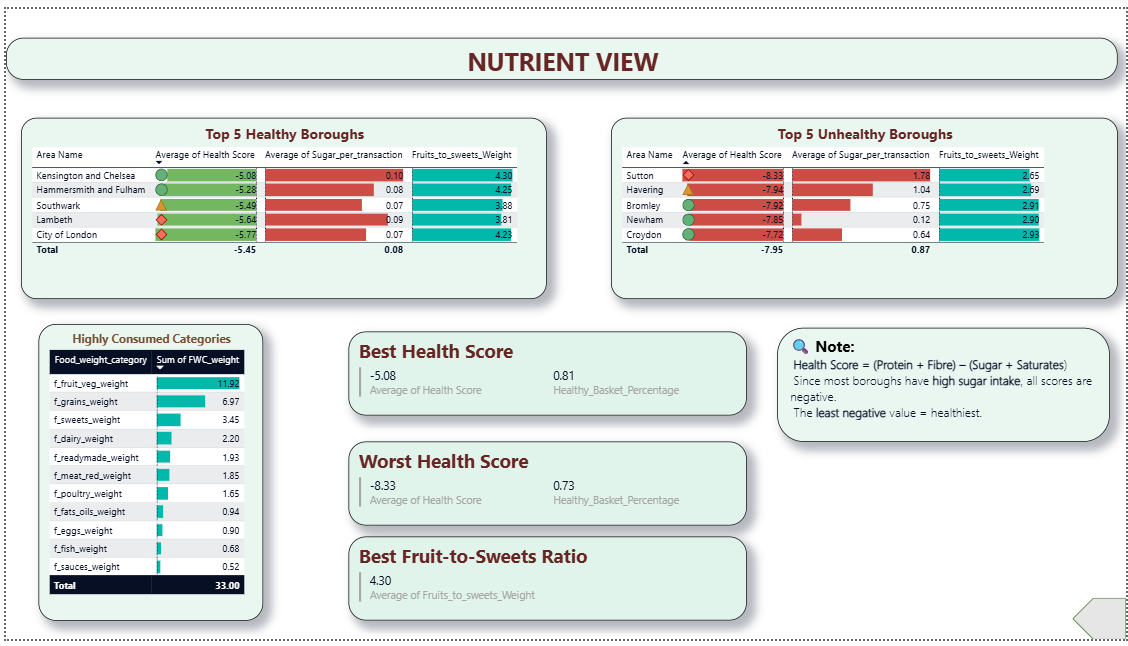

What the dashboard file says about the page in this screenshot:
{"tool":"powerbi","page":{"name":"NUTRIENTS VIEW","canvas":[1280,720],"ordinal":3},"visuals":[{"type":"tableEx","title":"Top 5 Healthy Boroughs","fields":{"Values":["year_borough_grocery.Area Name","Avg(year_borough_grocery.Health Score )","Avg(year_borough_grocery.Sugar_per_transaction)","year_borough_grocery.Fruits_to_sweets_Weight"]},"box":[17.8,124.9,601,207.2],"z":0},{"type":"tableEx","title":"Top 5 Unhealthy Boroughs","fields":{"Values":["year_borough_grocery.Area Name","Avg(year_borough_grocery.Health Score )","Avg(year_borough_grocery.Sugar_per_transaction)","year_borough_grocery.Fruits_to_sweets_Weight"]},"box":[691.6,124.9,579.1,207.2],"z":1000},{"type":"tableEx","title":"Highly Consumed Categories","fields":{"Values":["Food_weight_category.Food_weight_category","Sum(Food_weight_category.FWC_weight)"]},"box":[37,359.5,256.6,338.9],"z":2000},{"type":"textbox","title":"NUTRIENT VIEW","box":[0,32.9,1270.7,48],"z":3000},{"type":"multiRowCard","title":"Best Health Score","fields":{"Values":["Avg(year_borough_grocery.Health Score )","FruitSweetlookup.Healthy_Basket_Percentage"]},"box":[391.1,369.1,455.6,96.1],"z":4000},{"type":"multiRowCard","title":"Worst Health Score","fields":{"Values":["Avg(year_borough_grocery.Health Score )","FruitSweetlookup.Healthy_Basket_Percentage"]},"box":[391.1,494,455.6,96.1],"z":5000},{"type":"multiRowCard","title":"Best Fruit-to-Sweets Ratio","fields":{"Values":["Avg(year_borough_grocery.Fruits_to_sweets_Weight)"]},"box":[391.1,602.4,455.6,96.1],"z":6000},{"type":"textbox","title":"🔍 Note:","box":[881,363.6,380.1,130.4],"z":7000},{"type":"shape","box":[1218.5,672.4,61.7,48],"z":8000}]}

Visuals, with their boxes in screenshot pixels (x1, y1, x2, y2), scaled from the page's 1280x720 canvas onto the 1128x646 screenshot:
"Top 5 Healthy Boroughs" tableEx: detection(16, 112, 545, 298)
"Top 5 Unhealthy Boroughs" tableEx: detection(609, 112, 1120, 298)
"Highly Consumed Categories" tableEx: detection(33, 323, 259, 627)
"NUTRIENT VIEW" textbox: detection(0, 30, 1120, 73)
"Best Health Score" multiRowCard: detection(345, 331, 746, 417)
"Worst Health Score" multiRowCard: detection(345, 443, 746, 529)
"Best Fruit-to-Sweets Ratio" multiRowCard: detection(345, 540, 746, 627)
"🔍 Note:" textbox: detection(776, 326, 1111, 443)
shape: detection(1074, 603, 1127, 645)
